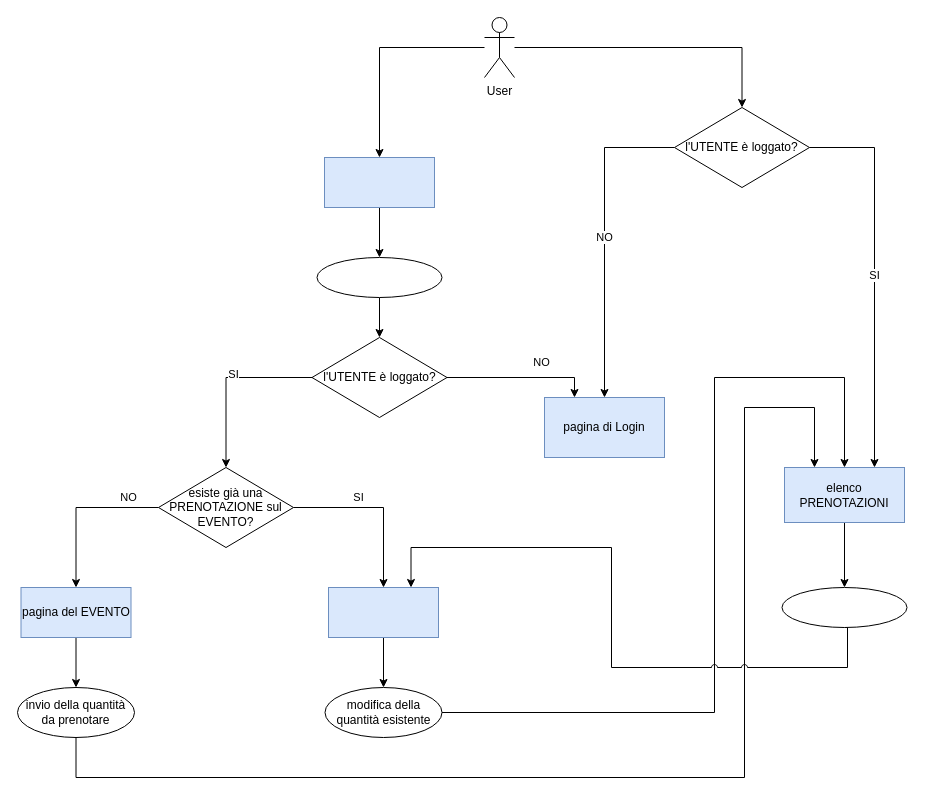
The diagram is 925 pixels wide and 803 high, and some of its shapes have lost their labels. Here are the shapes that lost their labels. From the top down, the centre of each, then its label:
At point (379, 182): "elenco EVENTI (homepage)".
At point (379, 277): "click su un EVENTO".
At point (383, 612): "pagina della PRENOTAZIONE".
At point (844, 607): "click su un PRENOTAZIONE".
